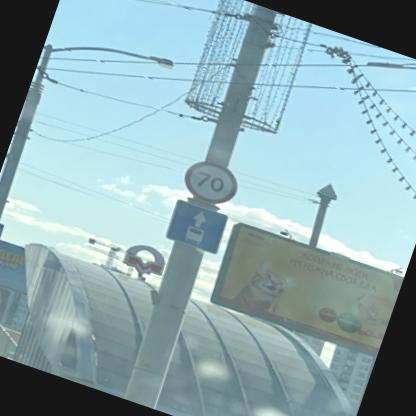speedlimit: (178, 154, 242, 209)
